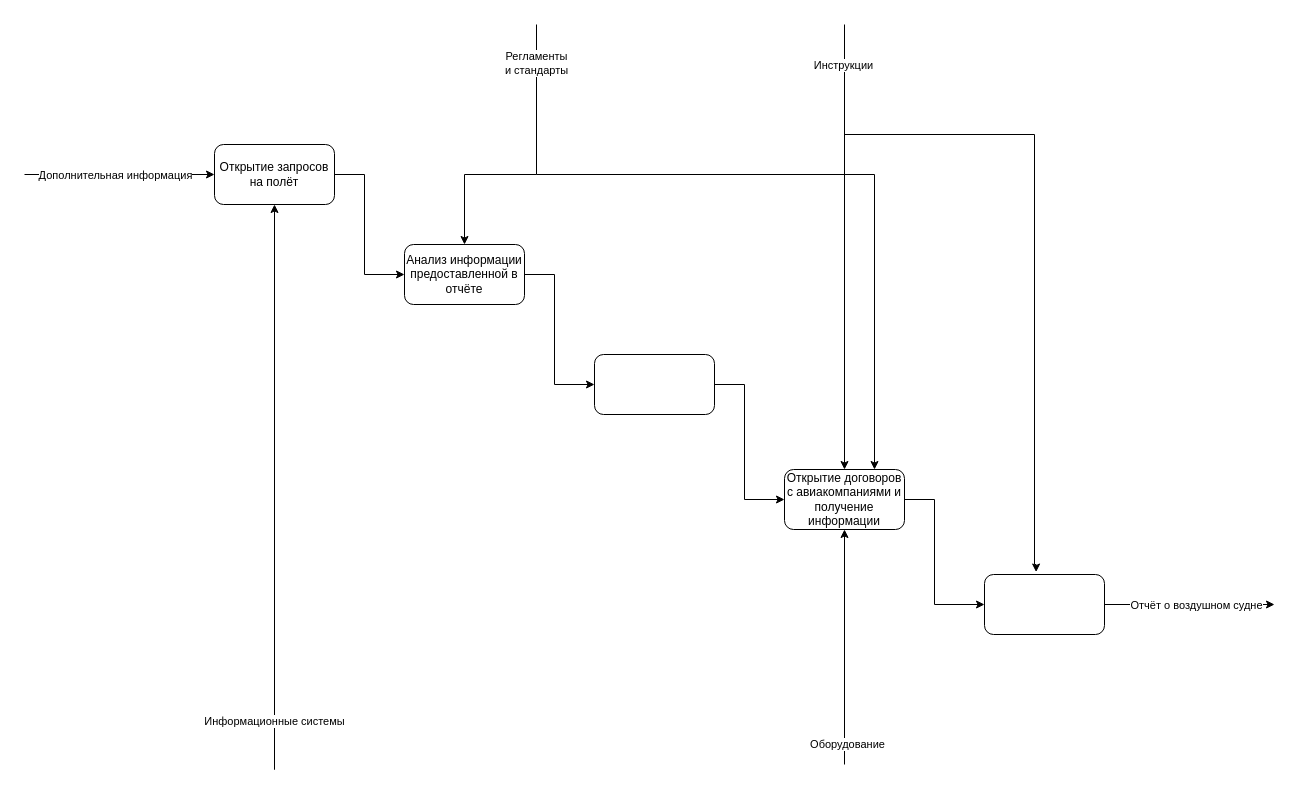
The diagram is 1300 pixels wide and 795 high, and some of its shapes have lost their labels. The shapes that lost their labels are listed below. From the top down, each one's centre as x and y in pixels, then its label:
point 654,384: Получение информации
point 1044,604: Составление отчёта обо всей полученной информации
